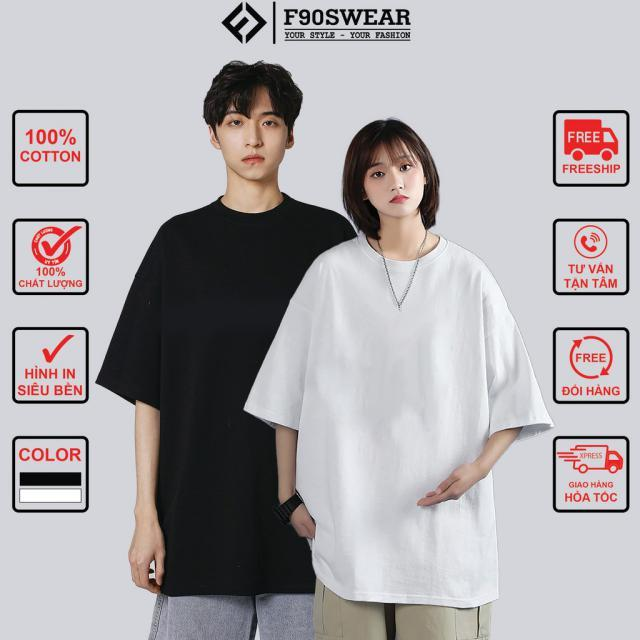Shirt: (245, 231, 560, 612), (91, 192, 376, 604)
